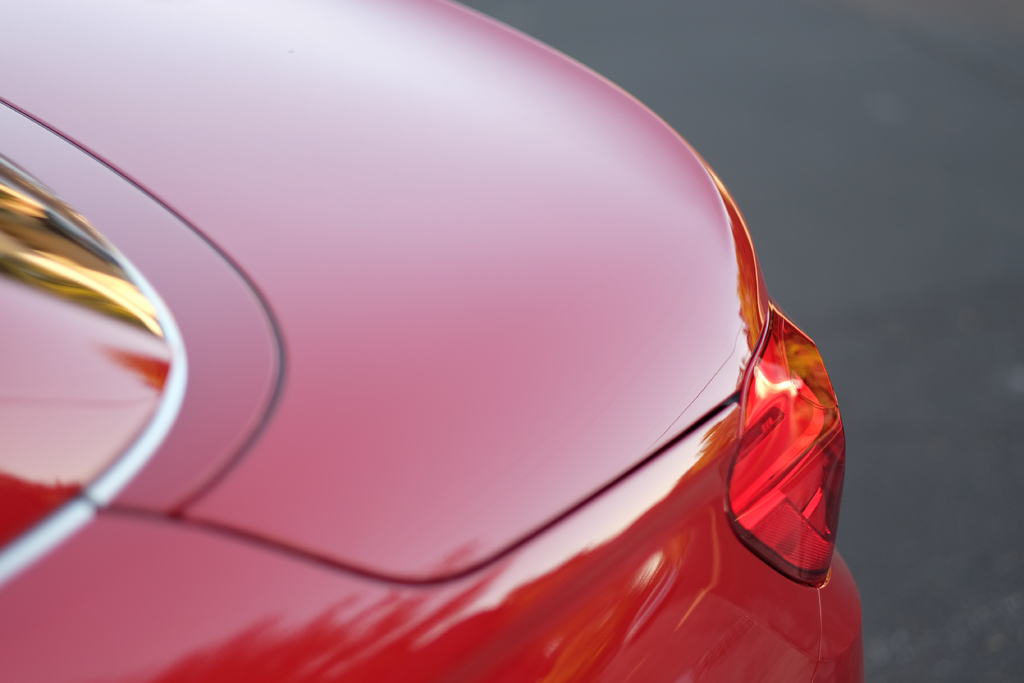Car: (0, 0, 864, 682)
